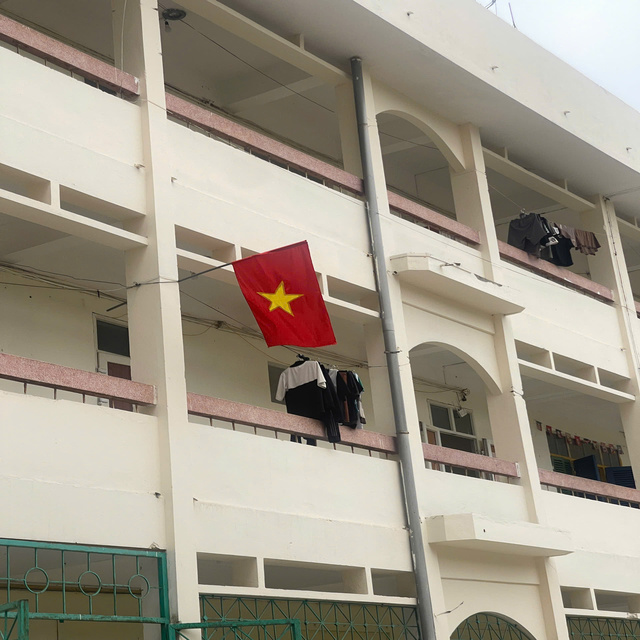laco: (226, 235, 346, 358)
